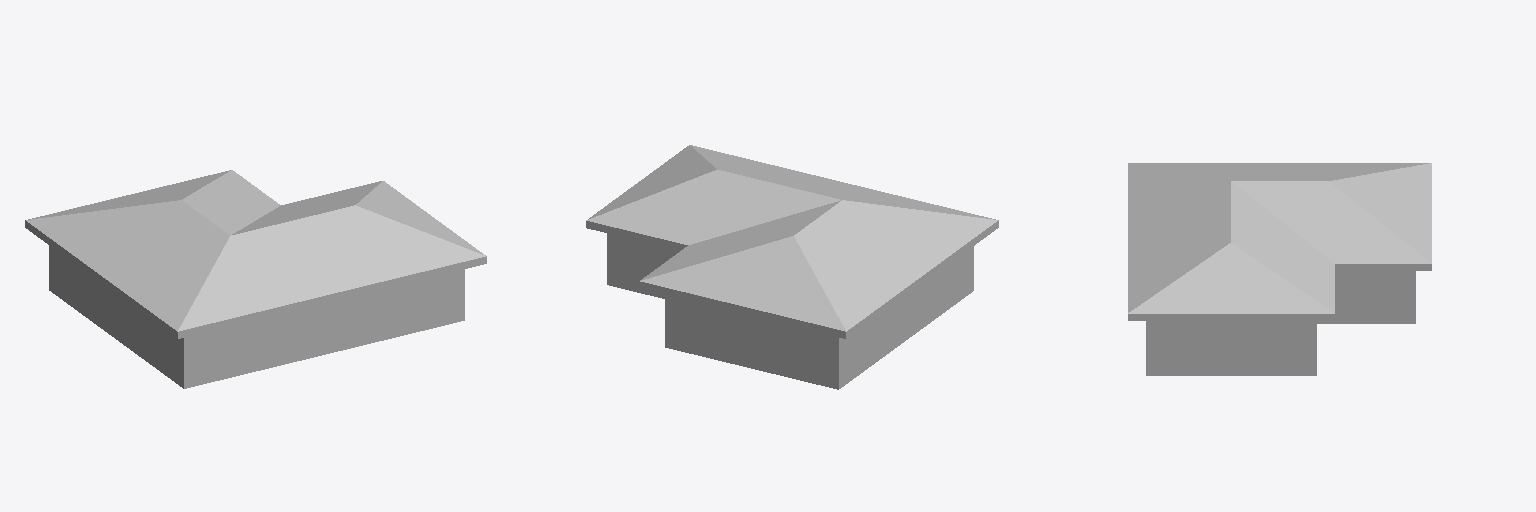
Rendered from House.obj.
3 renders of one model, left to right at view 1: azimuth 30°, elevation 25°; view 2: azimuth 150°, elevation 25°; view 3: azimuth 270°, elevation 25°, orthographic.
Parts seen in each view (by area): view 1: Cube; view 2: Cube; view 3: Cube.
Boxes of the visible parts, x1=… form: Cube: x1=25, y1=170, x2=486, y2=388; Cube: x1=586, y1=145, x2=998, y2=389; Cube: x1=1128, y1=163, x2=1431, y2=375.
Bounding box in the file's own units: 12.79 × 3.98 × 10.92.